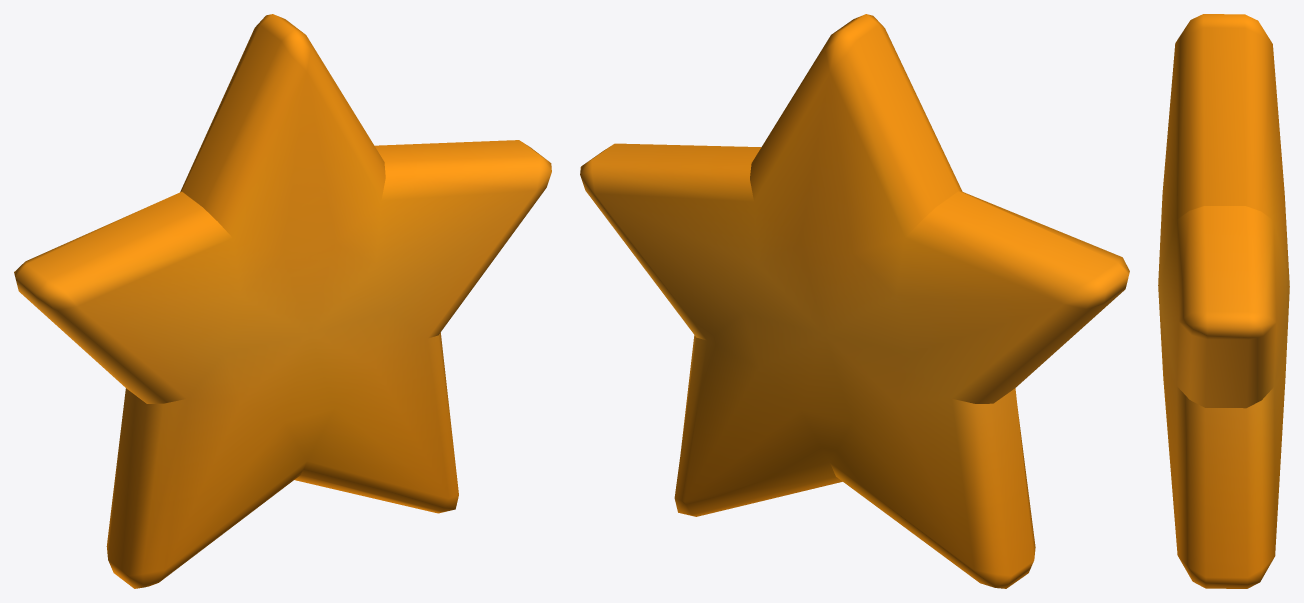
The model's file is star_002.fbx.
3 renders of one model, left to right at view 1: azimuth 30°, elevation 25°; view 2: azimuth 150°, elevation 25°; view 3: azimuth 270°, elevation 25°, orthographic. The views are drawn at different scales.
Visible parts, largest first — view 1: star_002; view 2: star_002; view 3: star_002.
Boxes of the visible parts, bbox=[...] form: star_002: bbox=[14, 14, 551, 588]; star_002: bbox=[580, 14, 1129, 588]; star_002: bbox=[1158, 14, 1289, 588].
Bounding box in the file's own units: 119 × 27.07 × 113.
